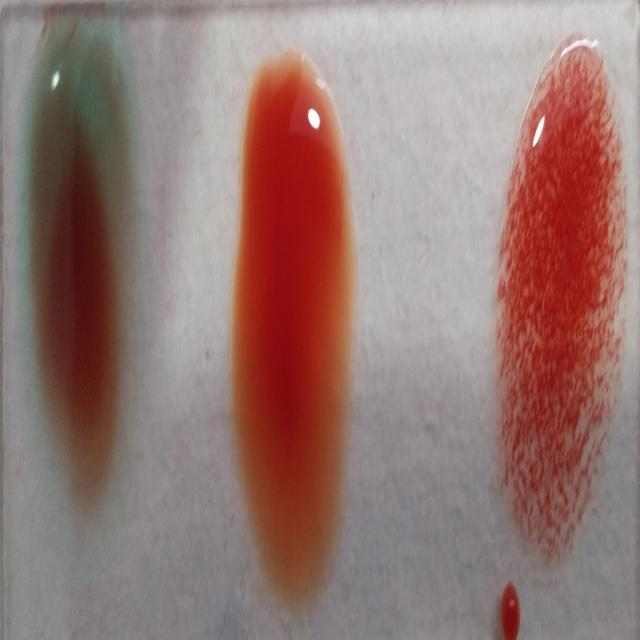D: (494, 36, 626, 559)
